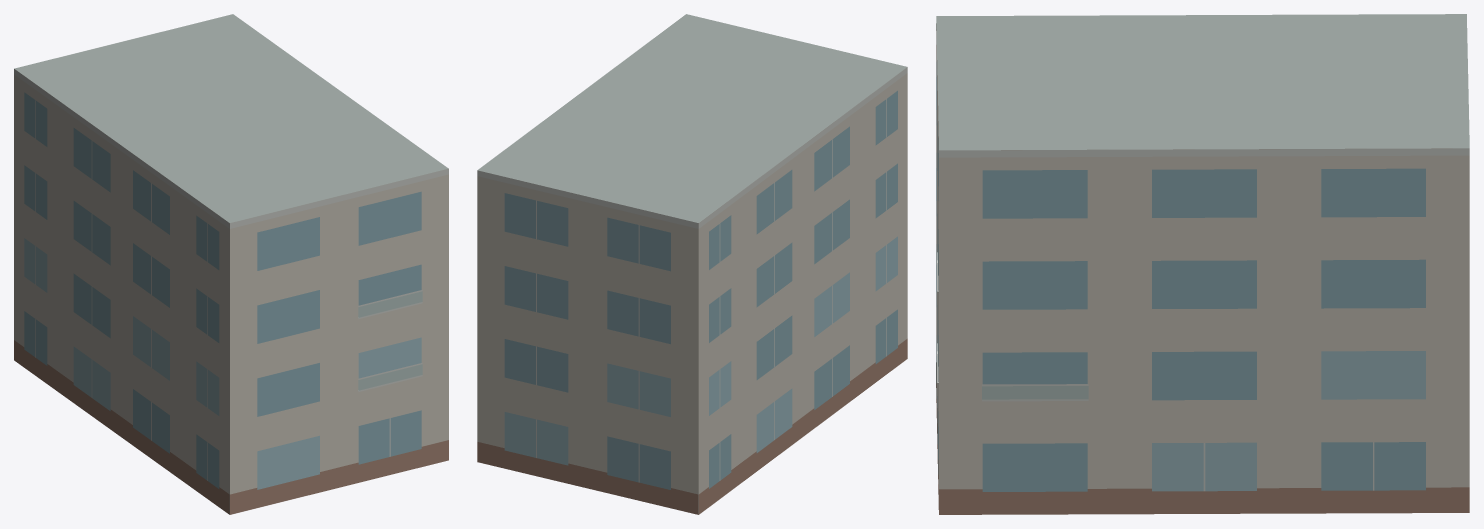
File: survey-upis-32927198.glb
3 views of the same model, side by side, from view 1: azimuth 30°, elevation 25°; view 2: azimuth 150°, elevation 25°; view 3: azimuth 270°, elevation 25° (orthographic). The views are drawn at different scales.
Visible parts, largest first — view 1: survey-upis-32927198.tmp; view 2: survey-upis-32927198.tmp; view 3: survey-upis-32927198.tmp.
Boxes of the visible parts, left/top/right/bottom form: survey-upis-32927198.tmp: left=14, top=14, right=448, bottom=514; survey-upis-32927198.tmp: left=477, top=14, right=907, bottom=514; survey-upis-32927198.tmp: left=936, top=14, right=1469, bottom=514.
Bounding box in the file's own units: 9.82 × 12.2 × 16.2.
